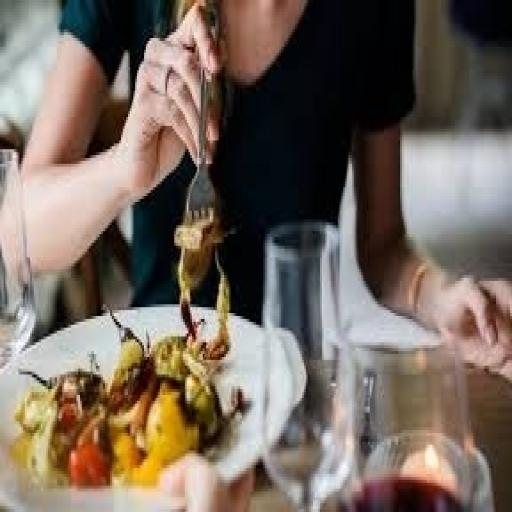eating: (8, 0, 508, 380)
